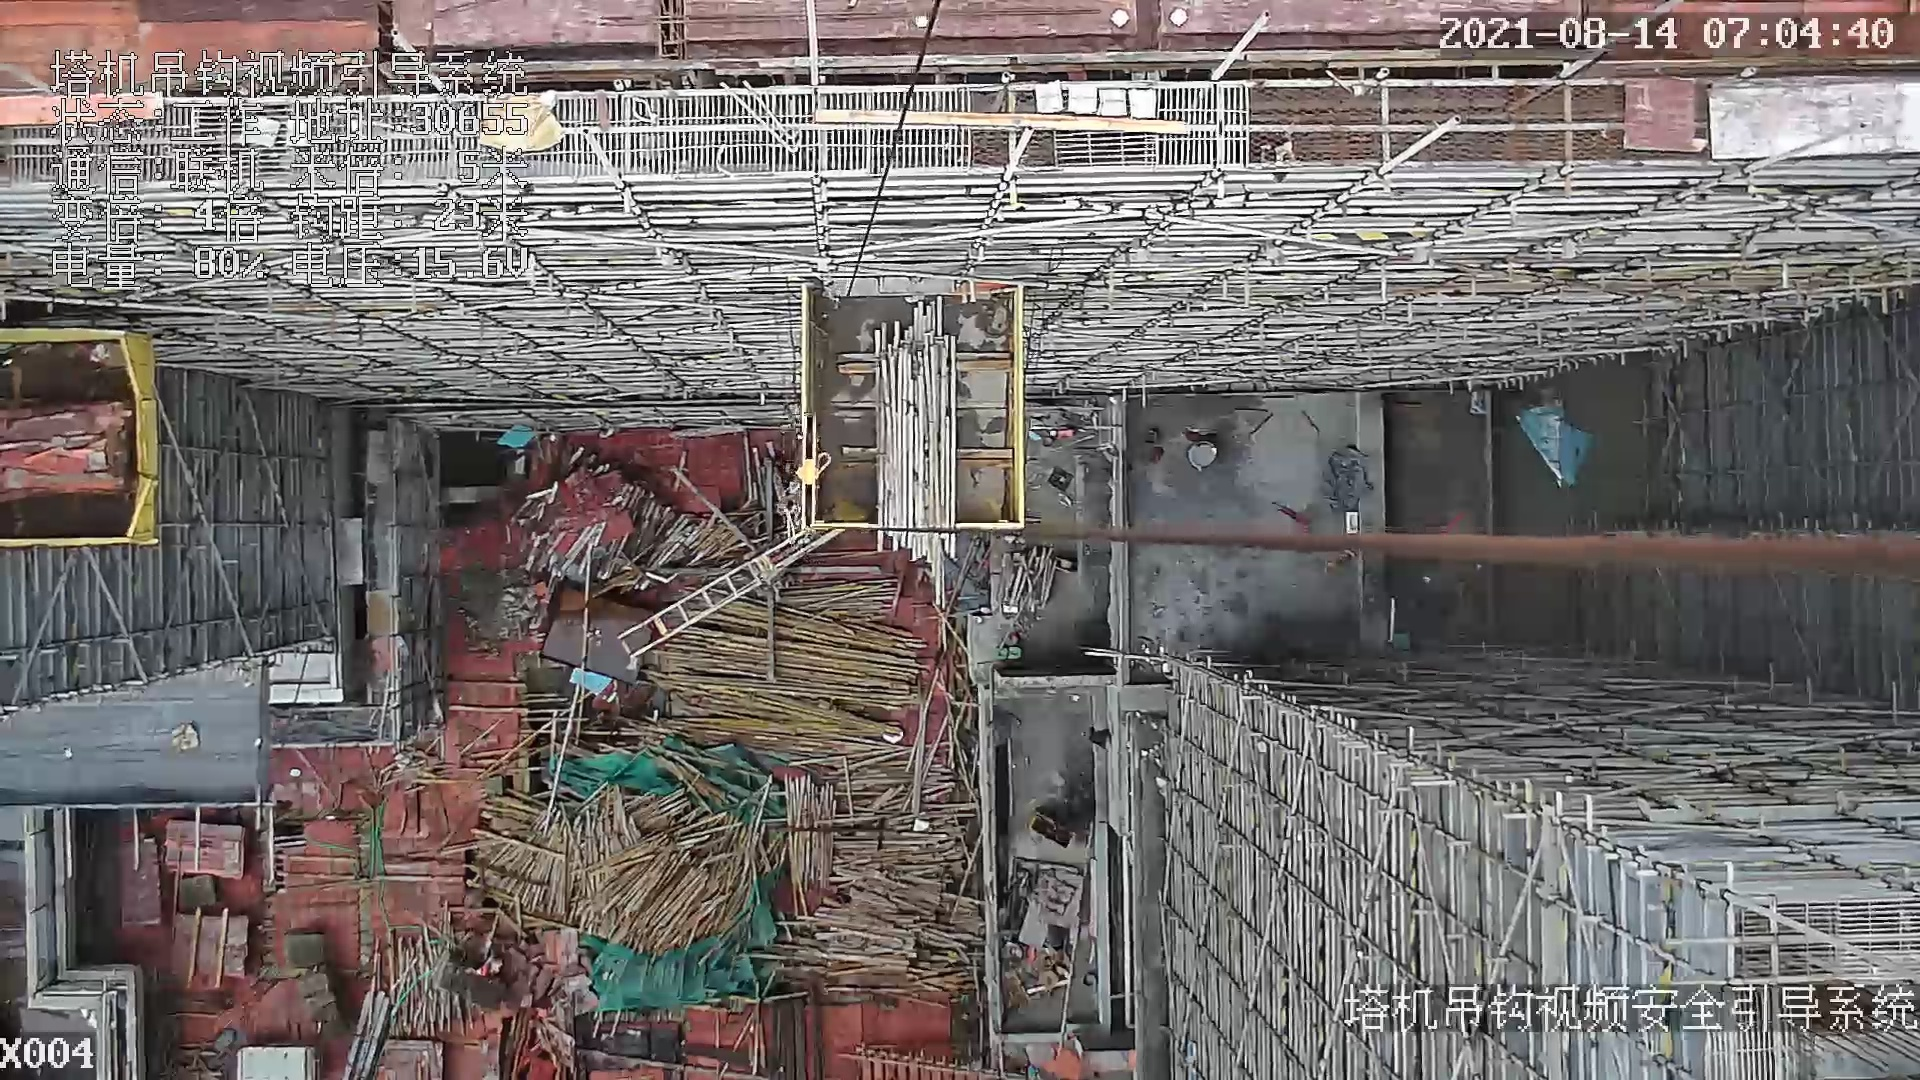hook: (793, 414, 828, 535)
